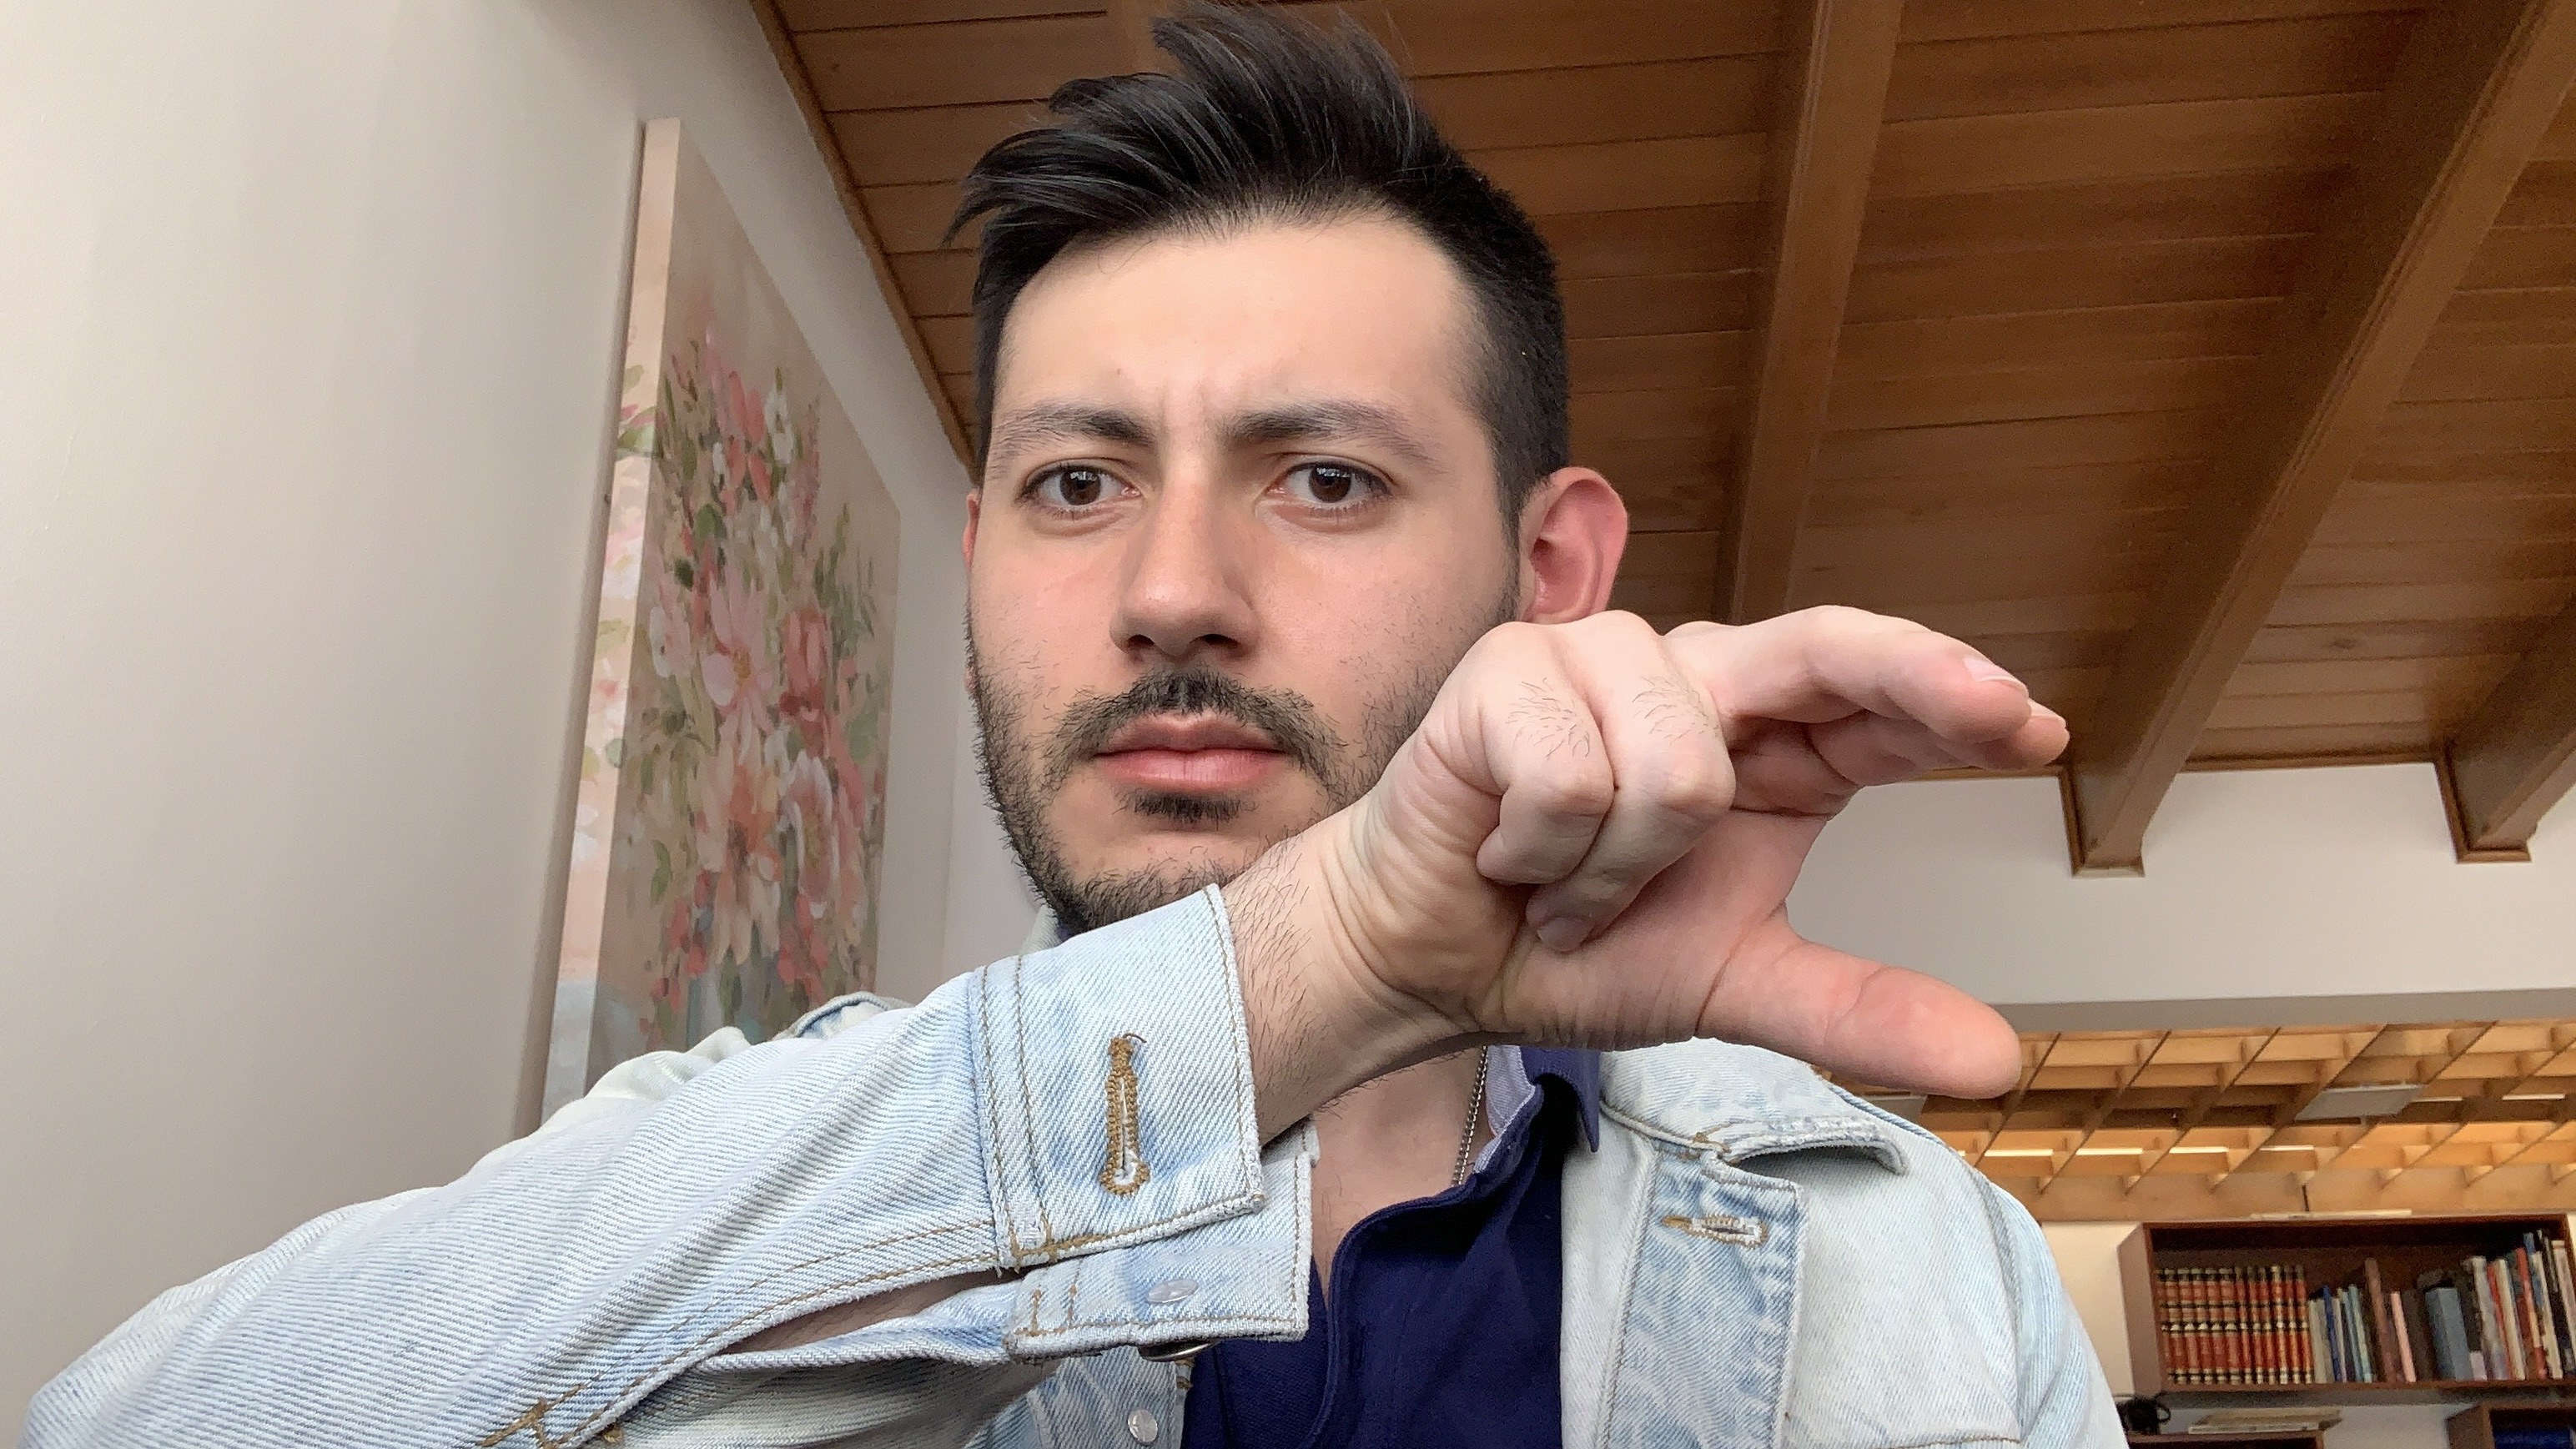No: (1353, 603, 2091, 1132)
